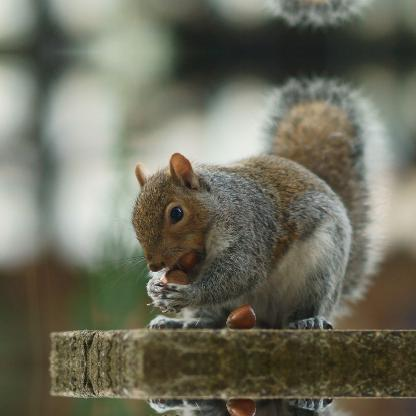Squirrel: (86, 76, 398, 330)
